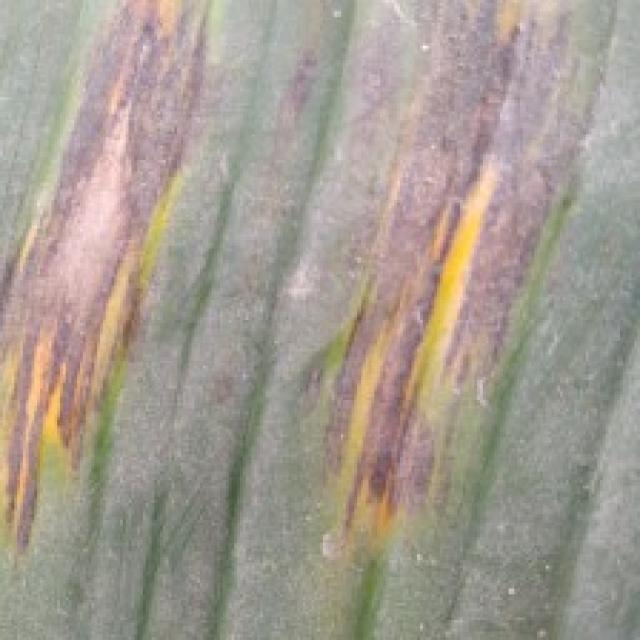Early_leaf_spot: (260, 5, 630, 555), (0, 0, 212, 553)
